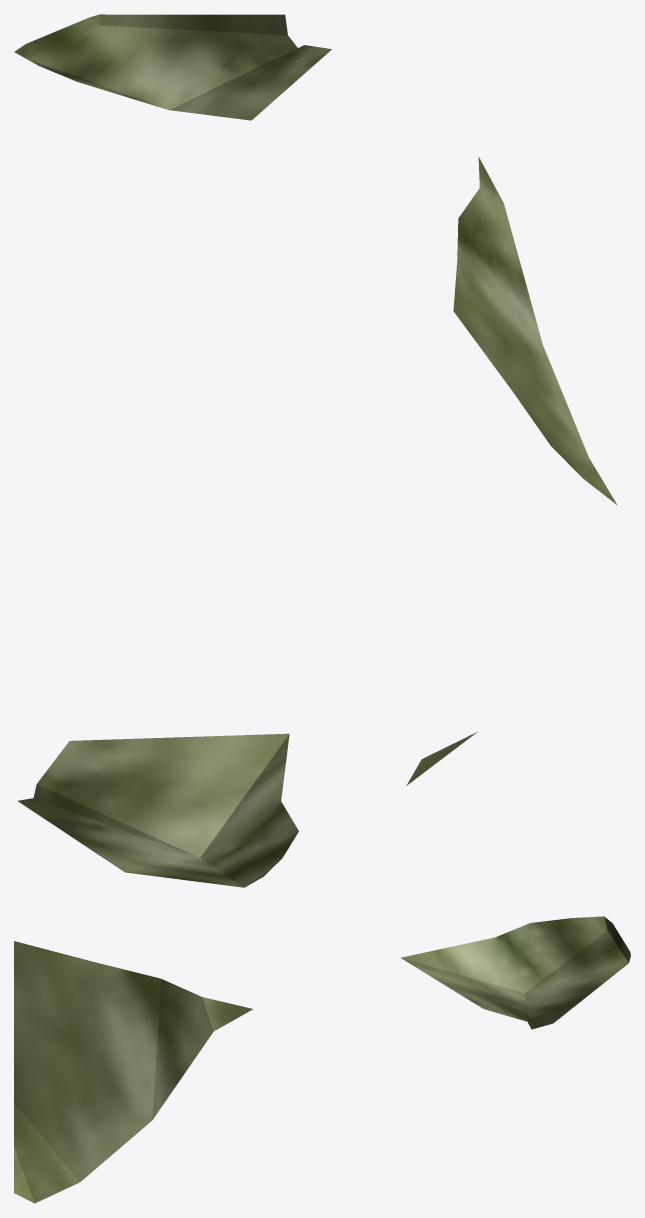
The picture shows the model from 3 angles, top to bottom: view 1: azimuth 30°, elevation 25°; view 2: azimuth 150°, elevation 25°; view 3: azimuth 270°, elevation 25°; orthographic projection. The views are drawn at different scales.
Bounding box in the file's own units: 0.5439 × 0.5324 × 1.53.
1 material, 1 textured.
